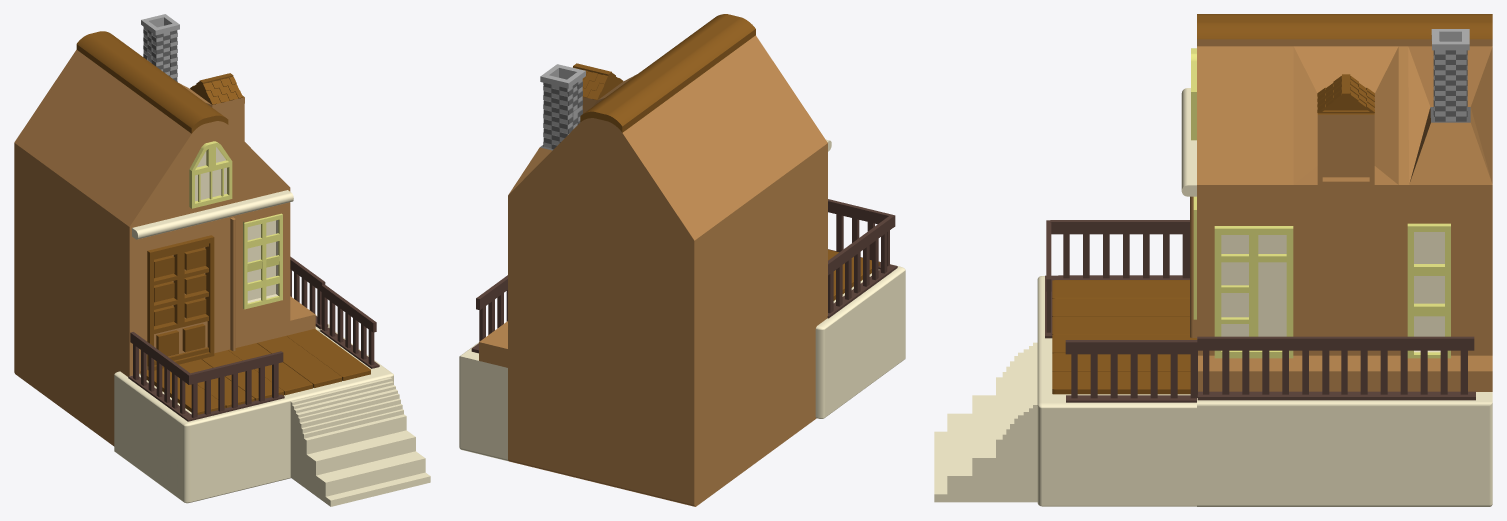
The picture shows the model from 3 angles, left to right: view 1: azimuth 30°, elevation 25°; view 2: azimuth 150°, elevation 25°; view 3: azimuth 270°, elevation 25°; orthographic projection. The views are drawn at different scales.
Parts seen in each view (by area): view 1: B13, Cube.012, Cube.013, Cube.017, Cube.022, Cube.021; view 2: B13, Cube.012, Cube.021, Cube.022, Cube.017; view 3: B13, Cube.012, Cube.017, Cube.013, Cube.021, Cube.022.
Boxes of the visible parts, <box> form: B13: <box>14,14,329,446</box>; Cube.012: <box>114,331,430,506</box>; Cube.013: <box>140,329,370,414</box>; Cube.017: <box>290,256,379,368</box>; Cube.022: <box>183,351,284,421</box>; Cube.021: <box>128,332,190,417</box>; B13: <box>459,14,831,506</box>; Cube.012: <box>815,250,905,418</box>; Cube.021: <box>827,215,893,318</box>; Cube.022: <box>828,199,897,271</box>; Cube.017: <box>471,275,507,353</box>; B13: <box>1181,14,1492,506</box>; Cube.012: <box>934,276,1196,506</box>; Cube.017: <box>1065,336,1475,402</box>; Cube.013: <box>1052,280,1196,394</box>; Cube.021: <box>1050,220,1189,279</box>; Cube.022: <box>1045,220,1058,338</box>.
Size of the model in its own units: 6496 by 9789 by 11653.
